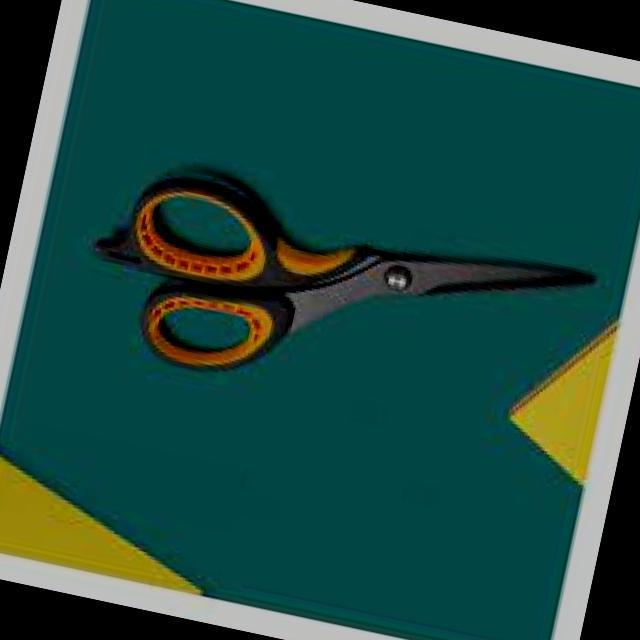Scissors: (61, 84, 622, 468)
